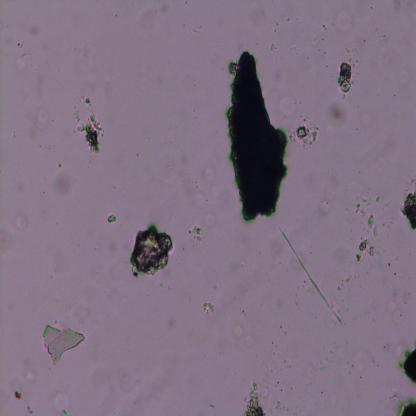Background material: (276, 228, 348, 330), (176, 158, 226, 223), (130, 224, 172, 278), (74, 96, 104, 155), (43, 326, 86, 364), (355, 200, 380, 240), (44, 164, 74, 197), (243, 382, 268, 415), (27, 114, 57, 141), (292, 118, 319, 148), (397, 341, 416, 383), (3, 210, 29, 239), (400, 188, 416, 232), (336, 7, 360, 36), (337, 61, 355, 96), (312, 23, 328, 61), (327, 100, 349, 127), (232, 316, 250, 348), (320, 184, 334, 218), (356, 239, 376, 262), (393, 396, 416, 416), (188, 226, 203, 245), (202, 301, 216, 314), (10, 389, 24, 401), (269, 42, 278, 54), (107, 213, 117, 223), (58, 407, 69, 415)
Fragment: (228, 50, 288, 224)
